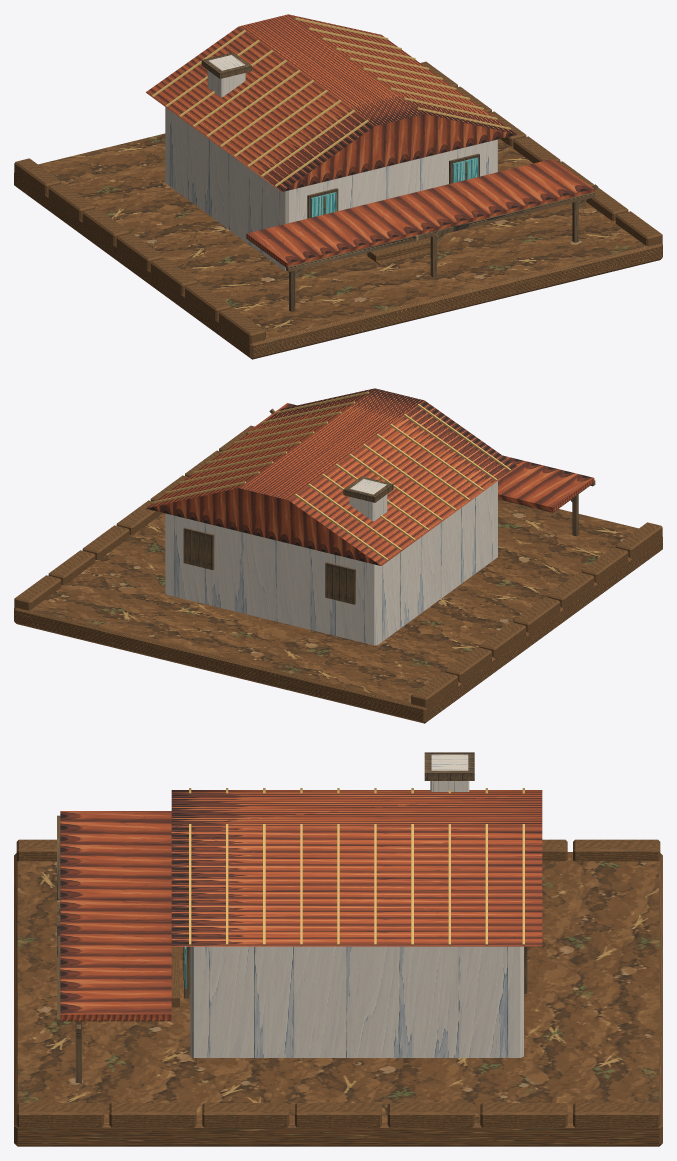
The model's file is farmhouse.glb.
3 renders of one model, top to bottom at view 1: azimuth 30°, elevation 25°; view 2: azimuth 150°, elevation 25°; view 3: azimuth 270°, elevation 25°, orthographic. The views are drawn at different scales.
Visible parts, largest first — view 1: Coursed foundation, Terracotta gable, Plaster walls, Porch roof, Porch fascia, Courtyard retaining stone.006, Chimney, Courtyard retaining stone.013, Courtyard retaining stone.002, Courtyard retaining stone.001, Courtyard retaining stone.003, Courtyard retaining stone (+8 smaller); view 2: Coursed foundation, Terracotta gable, Plaster walls, Porch roof, Window recess.002, Window recess, Courtyard retaining stone, Chimney, Courtyard retaining stone.007, Courtyard retaining stone.004, Courtyard retaining stone.005, Courtyard retaining stone.003 (+7 smaller); view 3: Coursed foundation, Terracotta gable, Plaster walls, Porch roof, Courtyard retaining stone.007, Courtyard retaining stone.013, Courtyard retaining stone.008, Courtyard retaining stone.009, Courtyard retaining stone.011, Courtyard retaining stone.012, Courtyard retaining stone.010, Courtyard retaining stone (+5 smaller).
Boxes of the visible parts, x1,y1,x2,y2 form: Coursed foundation: (14, 133, 662, 359); Terracotta gable: (146, 14, 517, 191); Plaster walls: (165, 107, 497, 271); Porch roof: (246, 158, 594, 267); Porch fascia: (286, 192, 595, 271); Courtyard retaining stone.006: (219, 308, 265, 344); Chimney: (207, 55, 245, 97); Courtyard retaining stone.013: (615, 211, 662, 246); Courtyard retaining stone.002: (82, 208, 129, 244); Courtyard retaining stone.001: (48, 183, 95, 219); Courtyard retaining stone.003: (116, 233, 163, 269); Courtyard retaining stone: (14, 158, 61, 194); Coursed foundation: (14, 499, 662, 723); Terracotta gable: (146, 388, 517, 565); Plaster walls: (165, 481, 497, 645); Porch roof: (246, 403, 594, 512); Window recess.002: (183, 527, 214, 569); Window recess: (325, 562, 355, 604); Courtyard retaining stone: (411, 672, 457, 708); Chimney: (349, 479, 387, 521); Courtyard retaining stone.007: (14, 575, 61, 610); Courtyard retaining stone.004: (547, 572, 594, 608); Courtyard retaining stone.005: (581, 547, 628, 583); Courtyard retaining stone.003: (513, 597, 560, 633); Coursed foundation: (14, 852, 662, 1146); Terracotta gable: (171, 790, 542, 946); Plaster walls: (190, 946, 523, 1057); Porch roof: (60, 811, 171, 1021); Courtyard retaining stone.007: (573, 1103, 660, 1127); Courtyard retaining stone.013: (16, 1103, 103, 1127); Courtyard retaining stone.008: (480, 1103, 567, 1127); Courtyard retaining stone.009: (387, 1103, 474, 1127); Courtyard retaining stone.011: (202, 1103, 289, 1127); Courtyard retaining stone.012: (109, 1103, 196, 1127); Courtyard retaining stone.010: (295, 1103, 381, 1127); Courtyard retaining stone: (573, 839, 660, 861).
Size of what is drawn, in the model's own units: 35 by 12.12 by 35.
7 materials, 6 textured.
